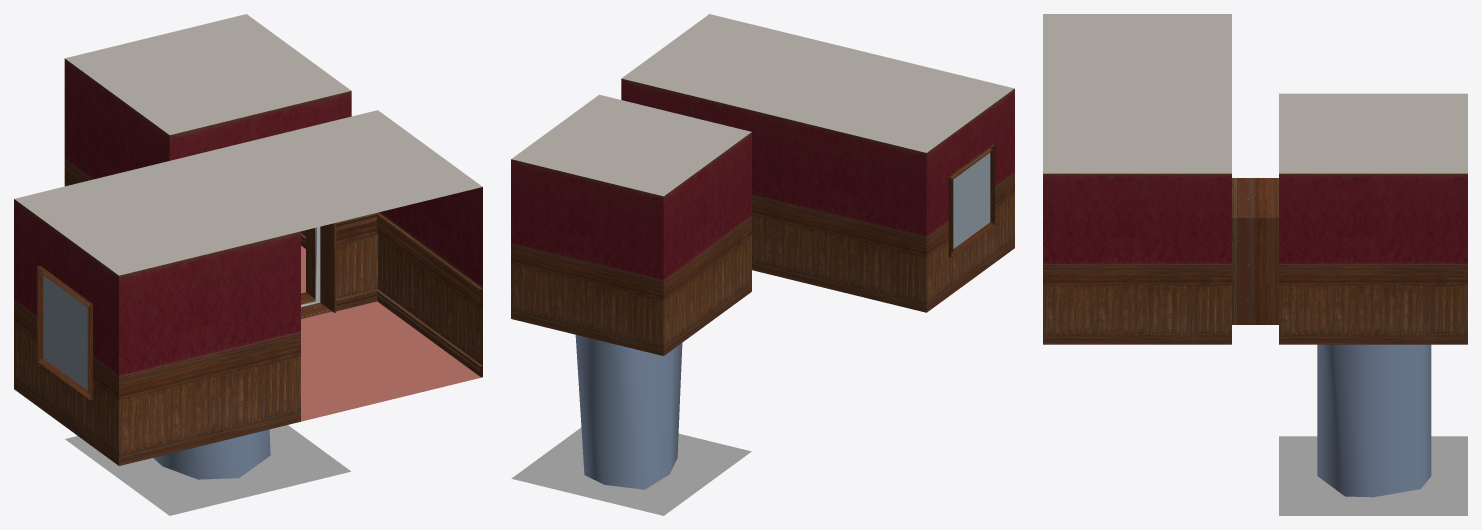
The model's file is Office.fbx.
The picture shows the model from 3 angles, left to right: view 1: azimuth 30°, elevation 25°; view 2: azimuth 150°, elevation 25°; view 3: azimuth 270°, elevation 25°; orthographic projection. The views are drawn at different scales.
Visible parts, largest first — view 1: pasted__pasted__pasted__pPlane1, pasted__pasted__pasted__pPlane16, pasted__pasted__pPlane16, pasted__pPlane16, pasted__pasted__pPlane1, pPlane3, pasted__pPlane1, pasted__pPlane10, pasted__pasted__pasted__pPlane17, pasted__pPlane11, pPlane11, pPlane20 (+6 smaller); view 2: pasted__pasted__pasted__pasted__pPlane1, pasted__pasted__pPlane17, pasted__pasted__pasted__pPlane17, polySurface15, pasted__pasted__pasted__pPlane16, pasted__pPlane16, pasted__pasted__pPlane16, pasted__pasted__pPlane1, pasted__pPlane10, pPlane11, pPlane20, pCube40; view 3: pasted__pPlane1, pasted__pasted__pasted__pasted__pasted__pPlane1, polySurface15, pasted__pPlane16, pasted__pasted__pPlane16, pasted__pasted__pasted__pPlane16, pasted__pPlane10, pPlane11, pasted__pPlane11.
Part boxes in pixels (x1,y1,x2,y2): pasted__pasted__pasted__pPlane1: (119, 231, 300, 465); pasted__pasted__pasted__pPlane16: (14, 154, 300, 275); pasted__pasted__pPlane16: (196, 110, 482, 231); pasted__pPlane16: (65, 14, 351, 134); pasted__pasted__pPlane1: (14, 199, 118, 465); pPlane3: (301, 301, 482, 421); pasted__pPlane1: (378, 187, 482, 376); pasted__pPlane10: (65, 425, 350, 515); pasted__pasted__pasted__pPlane17: (64, 58, 169, 186); pasted__pPlane11: (169, 91, 351, 304); pPlane11: (301, 223, 377, 318); pPlane20: (43, 271, 89, 390); pasted__pasted__pasted__pasted__pPlane1: (511, 159, 663, 355); pasted__pasted__pPlane17: (774, 116, 926, 312); pasted__pasted__pasted__pPlane17: (663, 132, 751, 355); polySurface15: (575, 335, 682, 489); pasted__pasted__pasted__pPlane16: (774, 51, 1014, 152); pasted__pPlane16: (511, 94, 751, 196); pasted__pasted__pPlane16: (621, 14, 861, 115); pasted__pasted__pPlane1: (926, 88, 1014, 312); pasted__pPlane10: (511, 427, 751, 515); pPlane11: (621, 78, 773, 275); pPlane20: (951, 149, 990, 248); pCube40: (948, 144, 995, 257); pasted__pPlane1: (1043, 173, 1231, 344); pasted__pasted__pasted__pasted__pasted__pPlane1: (1279, 173, 1467, 344); polySurface15: (1317, 344, 1431, 497); pasted__pPlane16: (1279, 93, 1467, 173); pasted__pasted__pPlane16: (1043, 93, 1231, 173); pasted__pasted__pasted__pPlane16: (1043, 14, 1231, 93); pasted__pPlane10: (1279, 436, 1467, 515); pPlane11: (1232, 178, 1255, 324); pasted__pPlane11: (1255, 178, 1278, 324).
Size of the model in its own units: 807 by 800 by 900.
